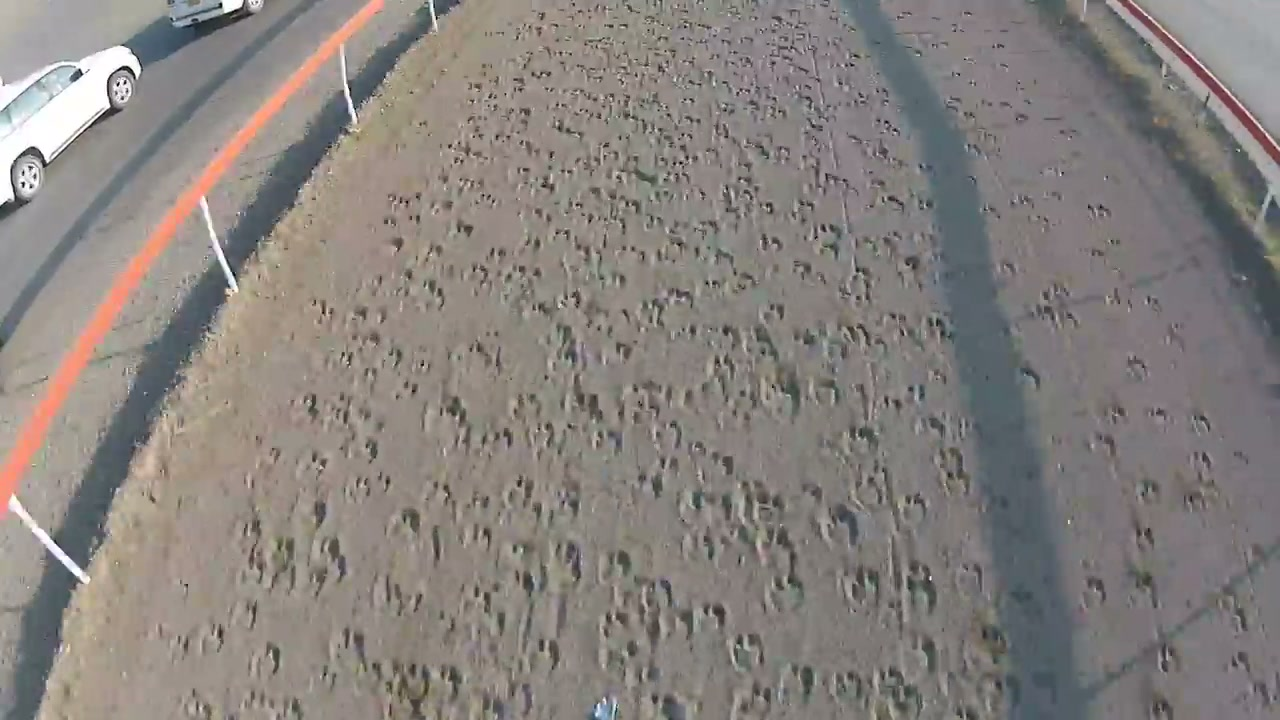animal_foot_print: (273, 53, 986, 711)
